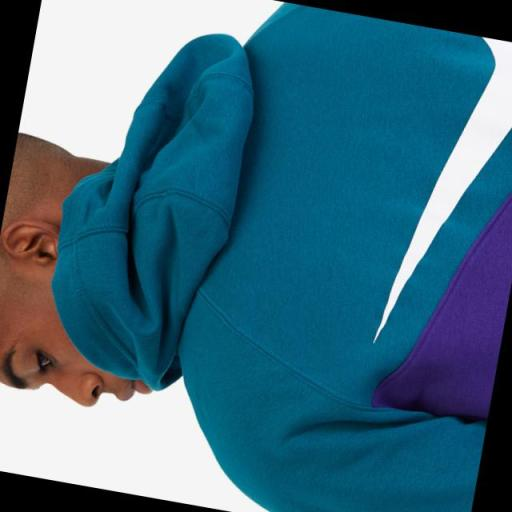Nike: (350, 22, 512, 370)
